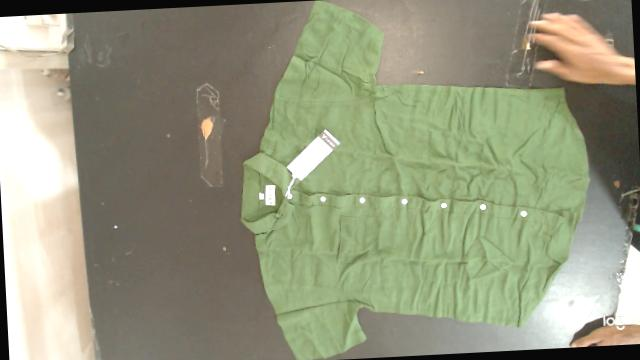new-garment: (241, 1, 588, 360)
